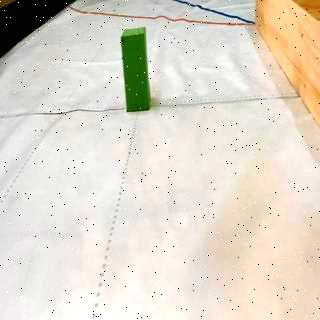greenbox: (122, 29, 150, 112)
